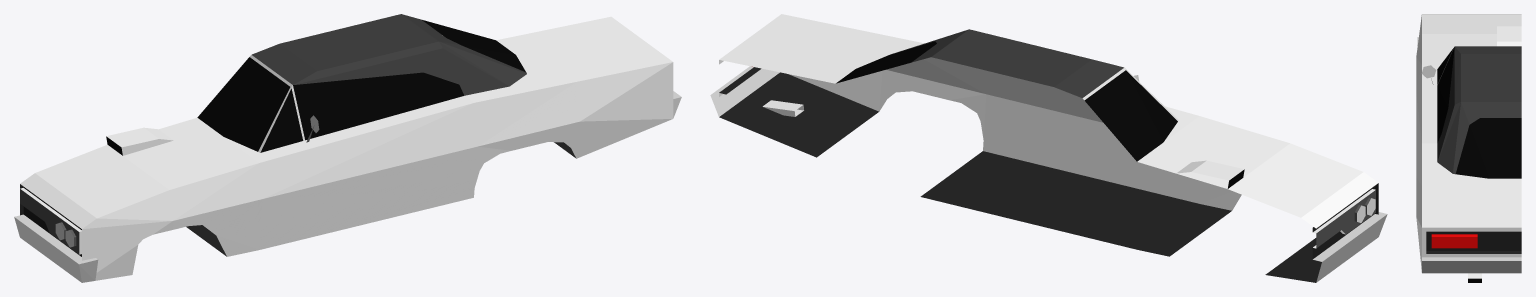
3 views of the same model, side by side, from view 1: azimuth 30°, elevation 25°; view 2: azimuth 150°, elevation 25°; view 3: azimuth 270°, elevation 25° (orthographic). The views are drawn at different scales.
Parts seen in each view (by area): view 1: group_3, group_4 (×4), group_0, group_2 (×3), group_5; view 2: group_3 (×4), group_0, group_4 (×2), group_2 (×3), group_1, group_7; view 3: group_3, group_0, group_4 (×3), group_1 (×3), group_6, group_7.
Boxes of the visible parts, x1,y1,x2,y2 form: group_3: [20, 16, 673, 280]; group_4 (×4): [197, 20, 525, 152]; group_0: [252, 14, 526, 95]; group_2 (×3): [14, 184, 98, 282]; group_5: [249, 55, 304, 152]; group_3 (×4): [719, 14, 1378, 282]; group_0: [890, 29, 1123, 97]; group_4 (×2): [836, 41, 1177, 161]; group_2 (×3): [1312, 183, 1387, 282]; group_1: [710, 66, 779, 116]; group_7: [762, 100, 804, 116]; group_3: [1416, 14, 1521, 272]; group_0: [1437, 46, 1521, 174]; group_4 (×3): [1437, 47, 1521, 178]; group_1 (×3): [1422, 231, 1521, 273]; group_6: [1421, 65, 1436, 78]; group_7: [1468, 273, 1481, 278].
Size of the model in its own units: 170 by 31.85 by 37.8.
